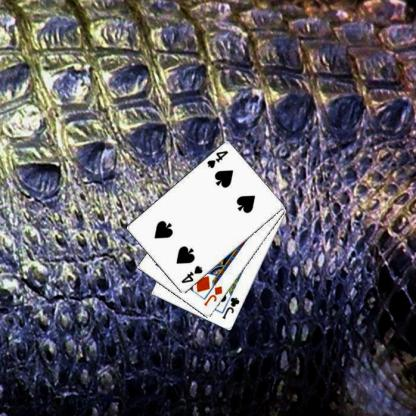4S: (204, 148, 229, 170), (179, 264, 204, 284)
JC: (219, 295, 241, 321)
JD: (201, 284, 223, 308)
